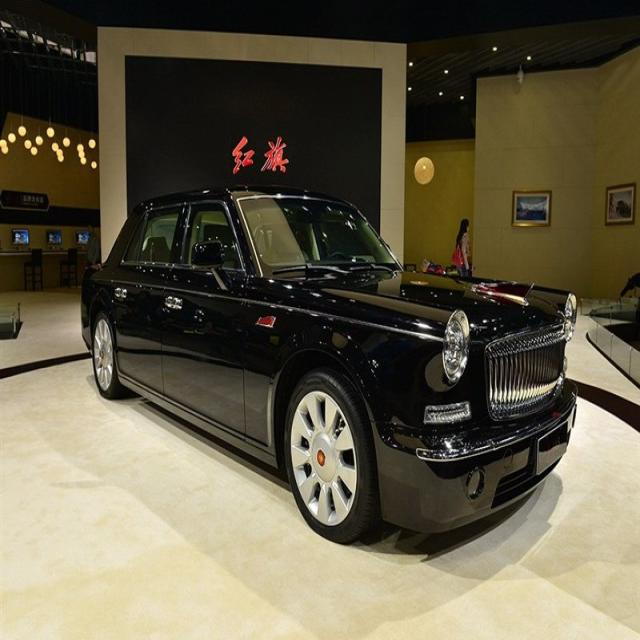door: (113, 203, 187, 380)
front_bumper: (369, 372, 582, 533)
front_glass: (237, 193, 406, 279)
front_left_side_light: (557, 291, 579, 344)
front_right_side_door: (158, 184, 255, 453)
front_right_side_light: (440, 307, 470, 385)
front_right_side_mirror: (192, 236, 233, 291)
wheel: (282, 369, 388, 542), (90, 309, 132, 401)
